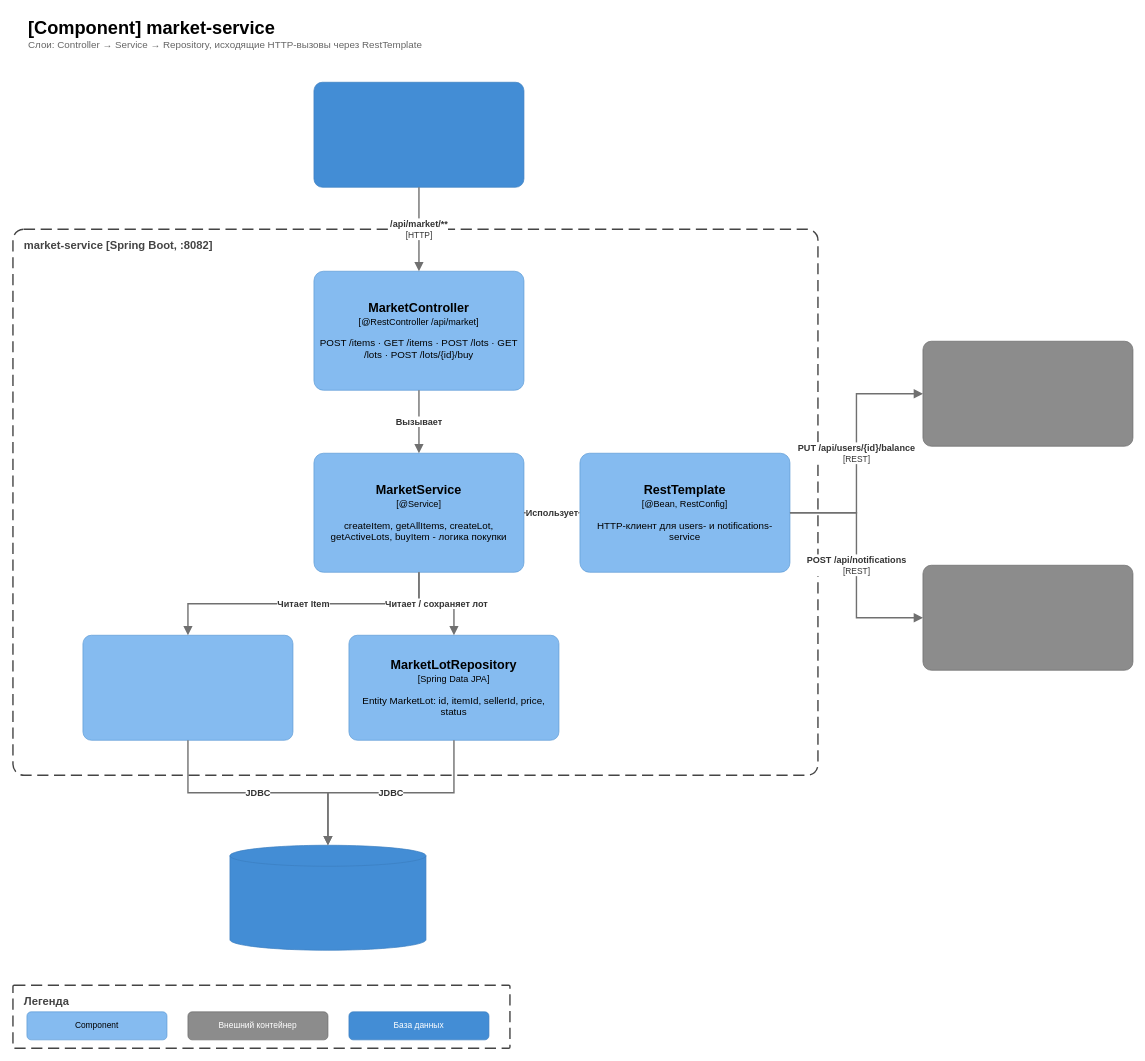
This 1145x1061 diagram has some shape labels left out. The centre of each missing label's shape, as x and y in pixels:
"api-gateway [Spring Cloud Gateway, :8080]" belongs at pixel 418 134.
"ItemRepository [Spring Data JPA] Entity Item: id, title, rarity" belongs at pixel 187 687.
"notifications-service [Spring Boot, :8083] Логирование сделок" belongs at pixel 1027 617.
"PostgreSQL 16 [БД app: items, market_lots]" belongs at pixel 327 897.
"users-service [Spring Boot, :8081] Кошельки и балансы" belongs at pixel 1027 393.
